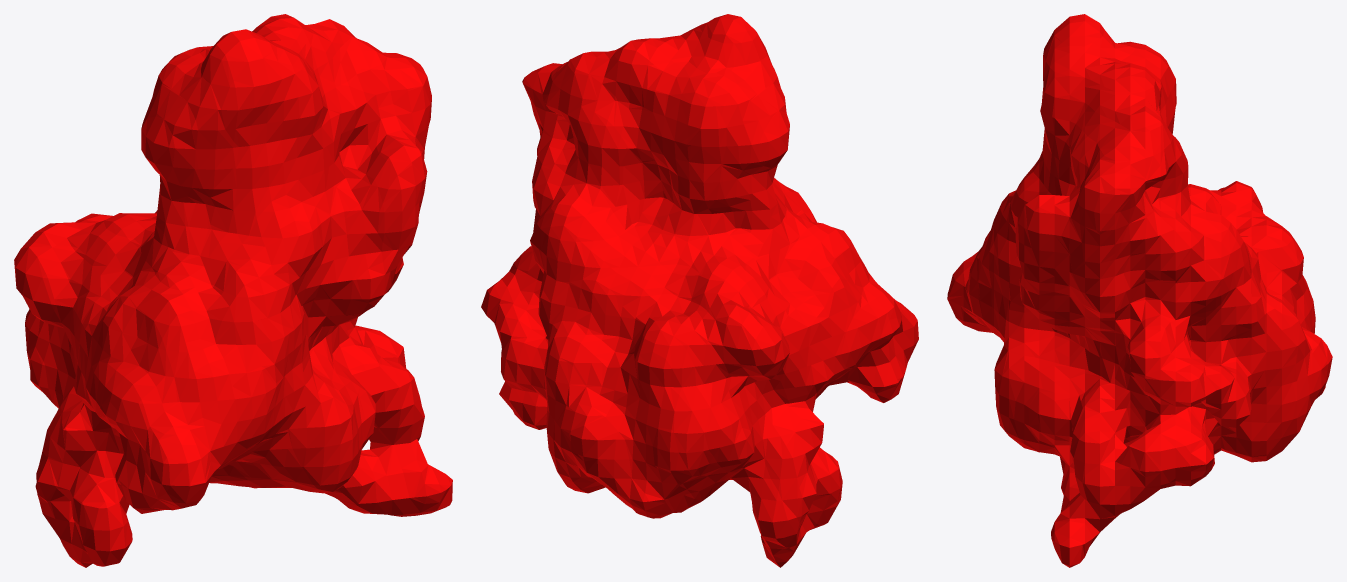
The model's file is nuoG_coarse.dae.
The picture shows the model from 3 angles, left to right: view 1: azimuth 30°, elevation 25°; view 2: azimuth 150°, elevation 25°; view 3: azimuth 270°, elevation 25°; orthographic projection. The views are drawn at different scales.
Parts seen in each view (by area): view 1: nuoG; view 2: nuoG; view 3: nuoG.
Boxes of the visible parts, x1,y1,x2,y2 form: nuoG: [14, 14, 452, 567]; nuoG: [481, 14, 918, 567]; nuoG: [947, 14, 1332, 567].
Size of the model in its own units: 75.5 by 106 by 76.
